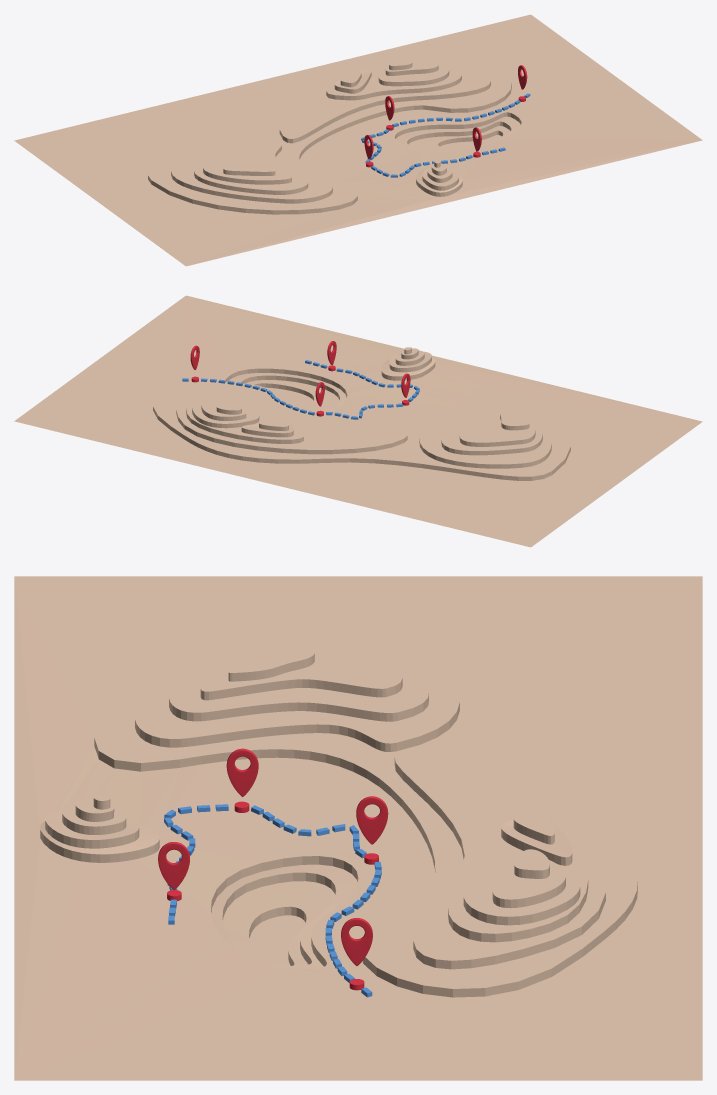
Rendered from experience.glb.
The picture shows the model from 3 angles, top to bottom: view 1: azimuth 30°, elevation 25°; view 2: azimuth 150°, elevation 25°; view 3: azimuth 270°, elevation 25°; orthographic projection. The views are drawn at different scales.
Visible parts, largest first — view 1: terrain, trail; view 2: terrain, trail; view 3: terrain, trail, marker.001, marker.002, marker, marker.003.
Part boxes in pixels (<box>): terrain: <box>14,14,702,266</box>; trail: <box>361,93,530,177</box>; terrain: <box>14,295,702,547</box>; trail: <box>182,360,419,419</box>; terrain: <box>14,576,702,1080</box>; trail: <box>164,801,381,997</box>; marker.001: <box>226,748,258,796</box>; marker.002: <box>356,796,388,844</box>; marker: <box>158,842,189,889</box>; marker.003: <box>341,918,372,965</box>.
Size of the model in its own units: 25.21 by 2.22 by 14.53.
